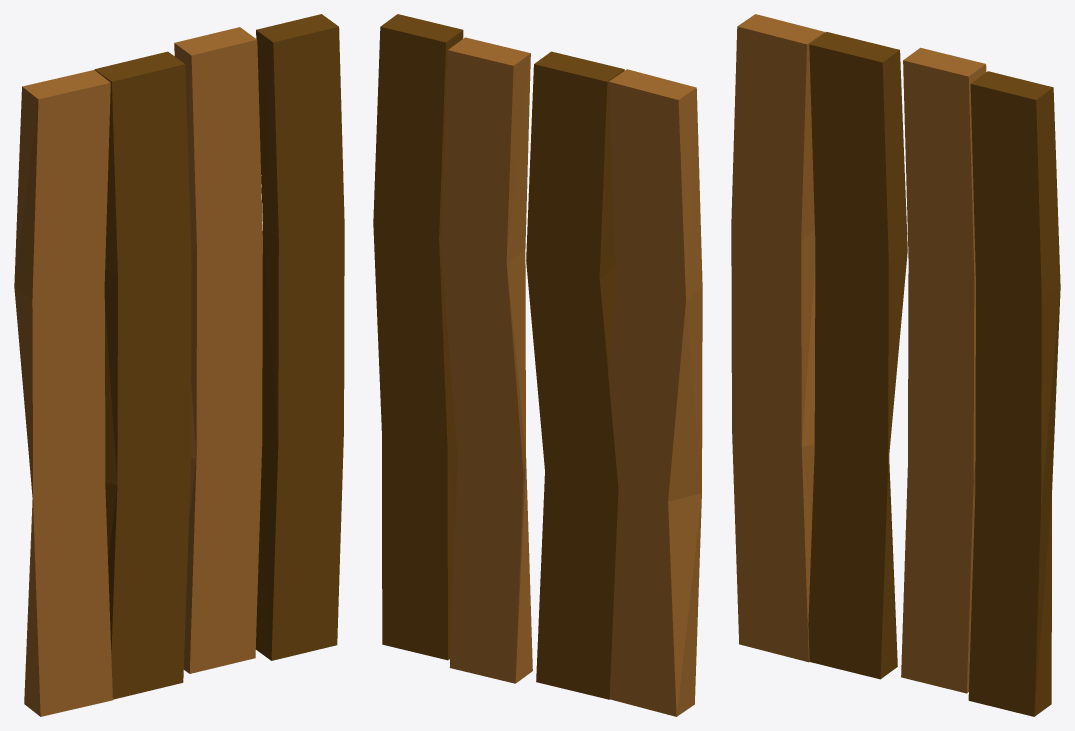
File: table.fbx
The picture shows the model from 3 angles, left to right: view 1: azimuth 30°, elevation 25°; view 2: azimuth 150°, elevation 25°; view 3: azimuth 330°, elevation 25°; orthographic projection.
Visible parts, largest first — view 1: Cube.087, Cube.084, Cube.086, Cube.085; view 2: Cube.087, Cube.085, Cube.086, Cube.084; view 3: Cube.086, Cube.084, Cube.087, Cube.085.
Part boxes in pixels (x1,y1,x2,y2): Cube.087: [14, 70, 112, 716]; Cube.084: [255, 14, 344, 660]; Cube.086: [94, 51, 191, 699]; Cube.085: [174, 27, 262, 673]; Cube.087: [608, 69, 702, 716]; Cube.085: [441, 37, 532, 683]; Cube.086: [526, 51, 624, 699]; Cube.084: [373, 14, 463, 660]; Cube.086: [808, 32, 907, 679]; Cube.084: [968, 71, 1060, 716]; Cube.087: [731, 14, 825, 662]; Cube.085: [901, 47, 986, 693].
Bounding box in the file's own units: 170 × 321 × 23.64.
